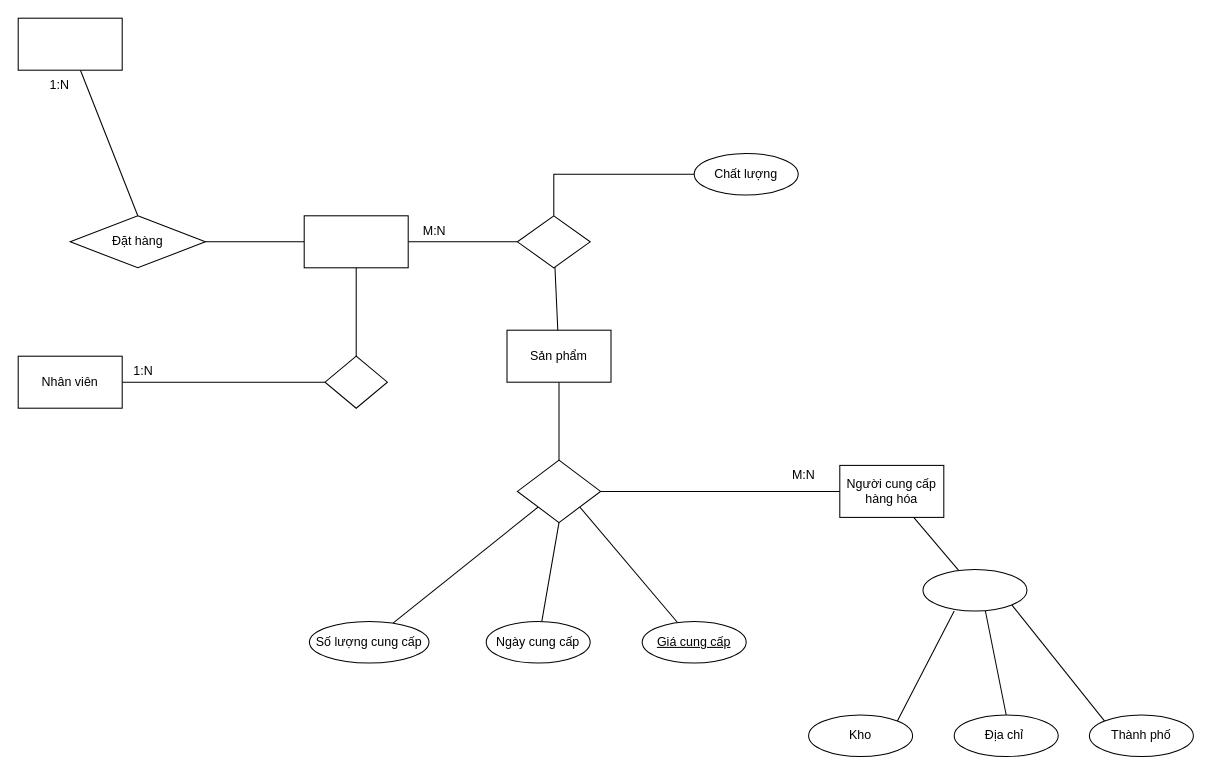
Image size: 1212x775. Some labels were removed from this diagram. Each missing label, with the box of its shape:
Chứa: (516, 215, 590, 268)
Cung cấp: (516, 459, 601, 523)
Khách hàng: (17, 17, 122, 70)
Quản lý: (324, 355, 387, 408)
Đơn hàng: (303, 215, 408, 268)
Địa điểm giao hàng: (922, 568, 1027, 611)
